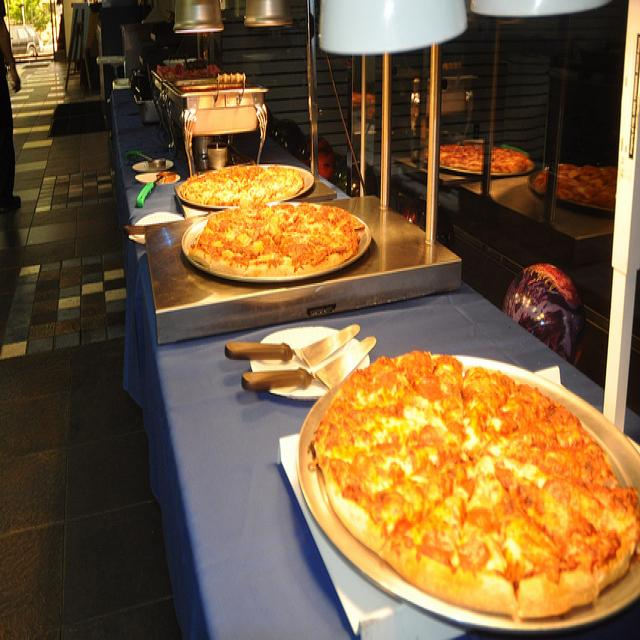Vehicle: (8, 26, 40, 55)
